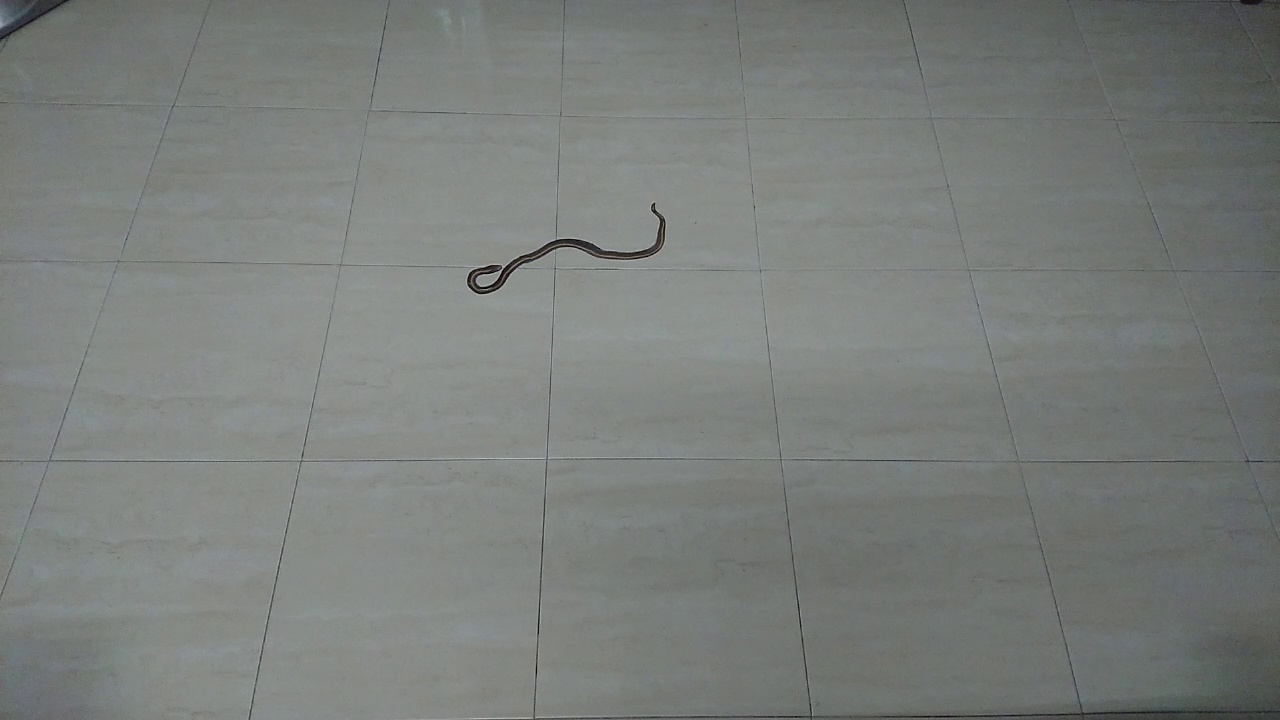snake: (446, 191, 681, 309)
